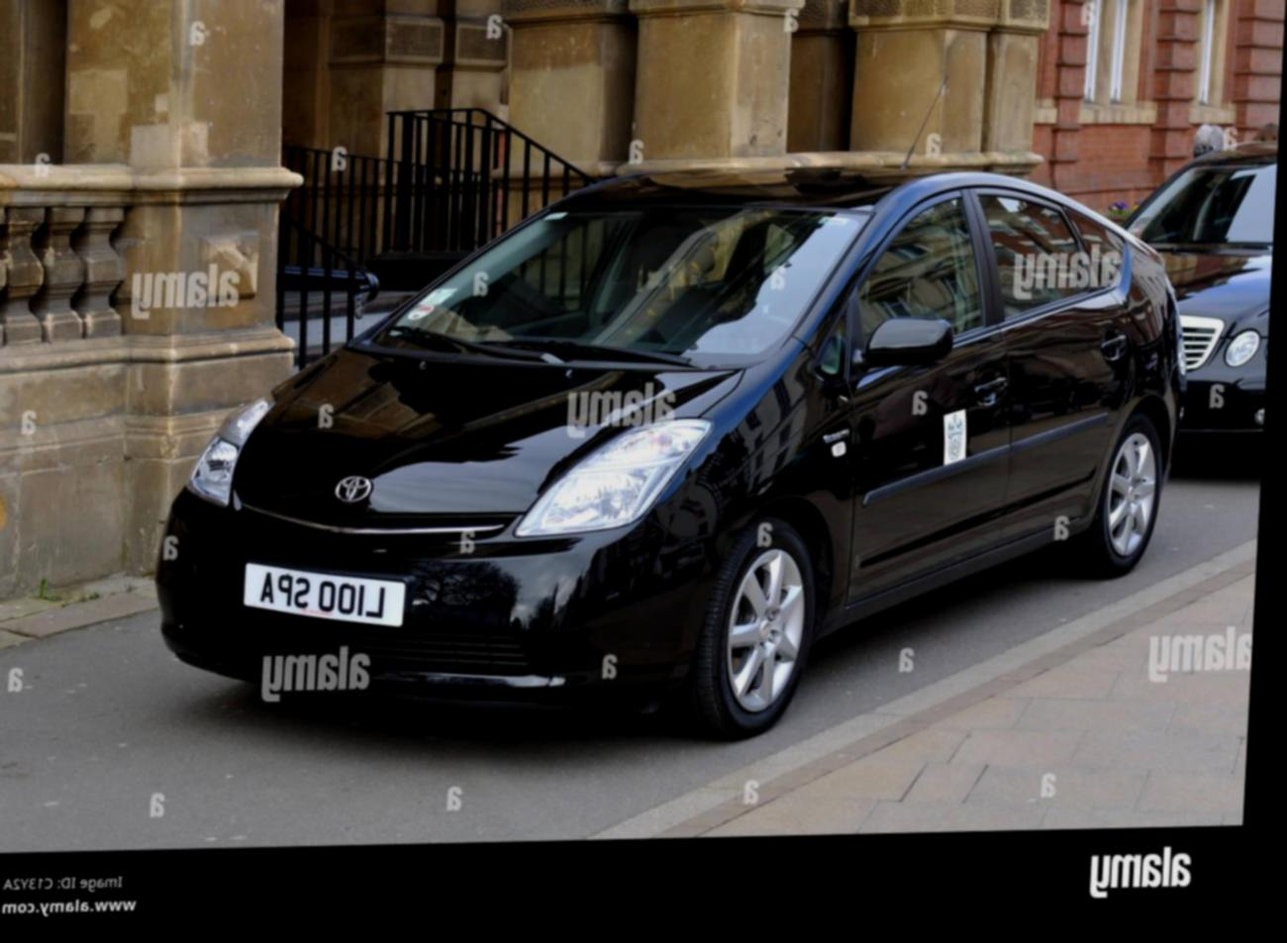License_Plate: (232, 550, 424, 635)
